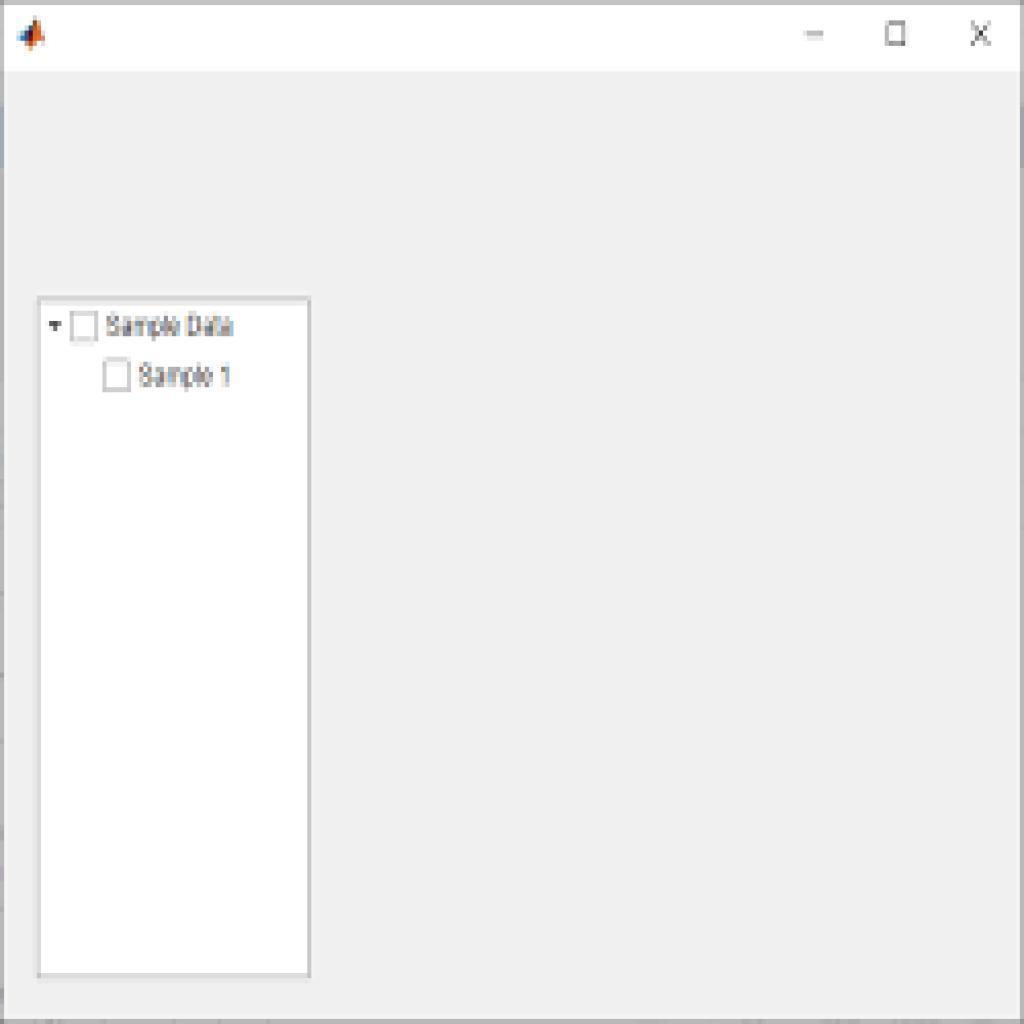checkbox: (101, 359, 133, 388), (68, 310, 97, 339)
